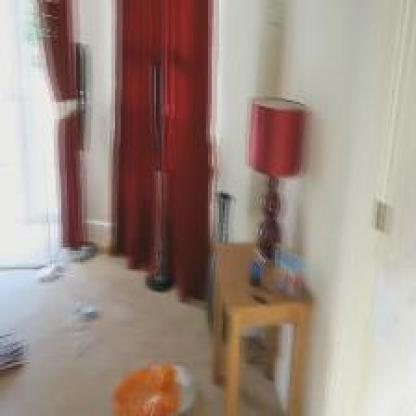other: (108, 0, 202, 291), (33, 0, 91, 249), (234, 81, 318, 189), (108, 357, 180, 410)
